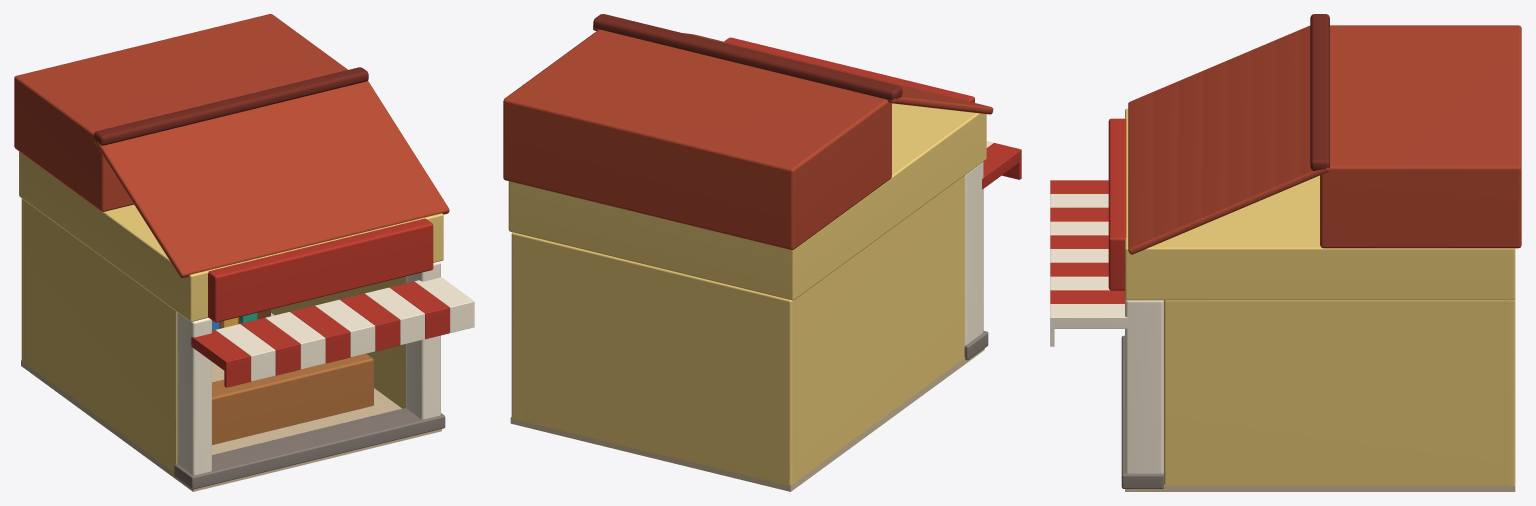
Rendered from kiosk_5.glb.
The picture shows the model from 3 angles, left to right: view 1: azimuth 30°, elevation 25°; view 2: azimuth 150°, elevation 25°; view 3: azimuth 270°, elevation 25°; orthographic projection. The views are drawn at different scales.
Visible parts, largest first — view 1: RoofBack, WallL, SignBoard, WallTop, Counter, Plinth, Tiles0, Tiles3, Tiles6, Tiles1, Tiles5, Tiles4 (+28 smaller); view 2: RoofBack, WallBack, WallL, WallTop, Ridge, Pillar0.0, Floor, SignBoard, Awn0, Tiles0; view 3: WallR, RoofBack, WallTop, Pillar4.6, Tiles0, Tiles6, Tiles5, Tiles1, Tiles3, Tiles4, Tiles2, SignBoard (+15 smaller).
Boxes of the visible parts, box(x1,y1,x2,y2) form: RoofBack: box(14, 14, 347, 211); WallL: box(21, 201, 176, 471); SignBoard: box(208, 218, 433, 322); WallTop: box(19, 151, 443, 321); Counter: box(212, 353, 373, 444); Plinth: box(174, 408, 445, 489); Tiles0: box(169, 191, 449, 278); Tiles3: box(137, 140, 416, 225); Tiles6: box(105, 89, 384, 174); Tiles1: box(158, 174, 437, 259); Tiles5: box(115, 106, 394, 191); Tiles4: box(126, 123, 405, 208); RoofBack: box(503, 29, 891, 249); WallBack: box(511, 232, 796, 485); WallL: box(781, 175, 964, 485); WallTop: box(508, 103, 986, 300); Ridge: box(593, 14, 902, 100); Pillar0.0: box(964, 162, 983, 345); Floor: box(510, 348, 984, 491); SignBoard: box(724, 37, 974, 102); Awn0: box(982, 144, 1019, 189); Tiles0: box(683, 33, 993, 114); WallR: box(1164, 300, 1513, 485); RoofBack: box(1320, 25, 1521, 248); WallTop: box(1125, 108, 1515, 300); Pillar4.6: box(1125, 299, 1163, 473); Tiles0: box(1128, 91, 1156, 254); Tiles6: box(1276, 29, 1303, 192); Tiles5: box(1251, 40, 1278, 202); Tiles1: box(1154, 81, 1181, 243); Tiles3: box(1203, 60, 1229, 223); Tiles4: box(1227, 50, 1254, 212); Tiles2: box(1179, 71, 1205, 233); SignBoard: box(1108, 118, 1126, 290).
Bounding box in the file's own units: 5.4 × 5.71 × 7.25.
